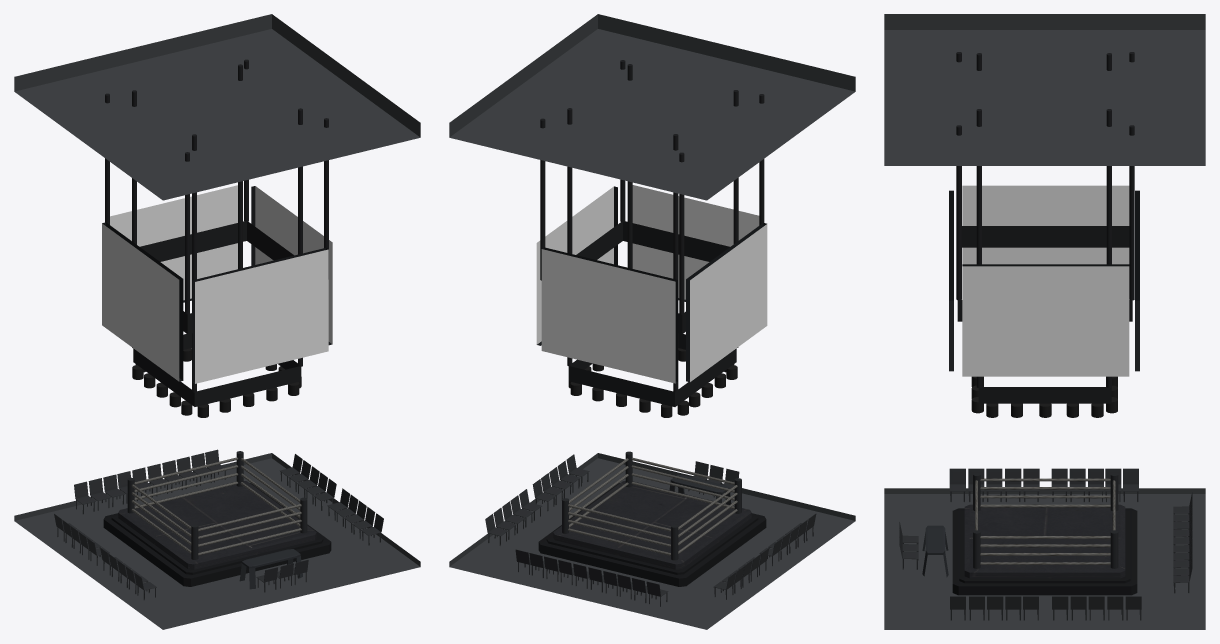
3 views of the same model, side by side, from view 1: azimuth 30°, elevation 25°; view 2: azimuth 150°, elevation 25°; view 3: azimuth 270°, elevation 25° (orthographic). The views are drawn at different scales.
Parts seen in each view (by area): view 1: Plane2, Plane, tv4, box, TV_Mount, tv3, tv1, Ring, tv2, Chair2, Chair3, Chair1 (+3 smaller); view 2: Plane2, Plane, tv1, box, TV_Mount, tv3, tv4, Ring, tv2, Chair3, Chair2, Chair1 (+3 smaller); view 3: Plane2, Plane, tv2, box, TV_Mount, tv3, Ring, Chair1, Chair3, Chair2, Corner, tv1 (+3 smaller).
Part boxes in pixels (left/top/right/bottom): Plane2: left=14, top=14, right=420, bottom=200; Plane: left=14, top=453, right=420, bottom=629; tv4: left=192, top=247, right=328, bottom=383; box: left=103, top=481, right=331, bottom=586; TV_Mount: left=105, top=59, right=328, bottom=406; tv3: left=102, top=222, right=183, bottom=381; tv1: left=110, top=185, right=237, bottom=302; Ring: left=131, top=457, right=301, bottom=555; tv2: left=251, top=186, right=332, bottom=345; Chair2: left=74, top=449, right=225, bottom=514; Chair3: left=280, top=454, right=383, bottom=545; Chair1: left=54, top=513, right=156, bottom=600; Plane2: left=449, top=14, right=855, bottom=200; Plane: left=449, top=453, right=855, bottom=629; tv1: left=541, top=247, right=677, bottom=383; box: left=538, top=481, right=766, bottom=586; TV_Mount: left=540, top=60, right=764, bottom=406; tv3: left=686, top=223, right=767, bottom=382; tv4: left=632, top=185, right=759, bottom=301; Ring: left=568, top=457, right=737, bottom=555; tv2: left=536, top=186, right=617, bottom=345; Chair3: left=485, top=454, right=589, bottom=546; Chair2: left=515, top=549, right=668, bottom=606; Chair1: left=713, top=513, right=816, bottom=599; Plane2: left=884, top=14, right=1205, bottom=165; Plane: left=884, top=488, right=1205, bottom=629; tv2: left=962, top=264, right=1129, bottom=376; box: left=952, top=504, right=1137, bottom=595; TV_Mount: left=956, top=52, right=1134, bottom=403; tv3: left=962, top=185, right=1129, bottom=264; Ring: left=975, top=478, right=1115, bottom=564; Chair1: left=949, top=468, right=1138, bottom=502; Chair3: left=950, top=596, right=1141, bottom=620; Chair2: left=1173, top=492, right=1192, bottom=593; Corner: left=973, top=472, right=1118, bottom=568; tv1: left=1135, top=190, right=1139, bottom=371.
Bounding box in the file's own units: 10 × 16.51 × 10.
63 materials, 5 textured.
